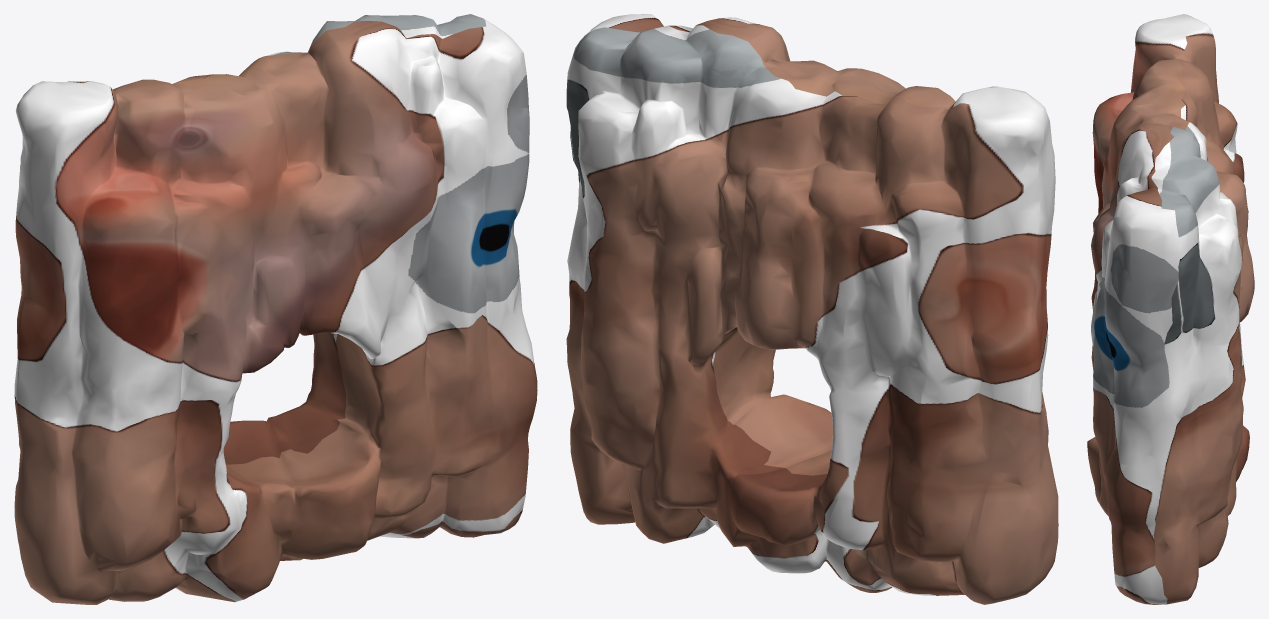
The model's file is caveWall2_LOD.fbx.
3 views of the same model, side by side, from view 1: azimuth 30°, elevation 25°; view 2: azimuth 150°, elevation 25°; view 3: azimuth 270°, elevation 25° (orthographic). The views are drawn at different scales.
Visible parts, largest first — view 1: wallMesh_hole1_LOD0; view 2: wallMesh_hole1_LOD0; view 3: wallMesh_hole1_LOD0.
Part boxes in pixels (x1,y1,x2,y2): wallMesh_hole1_LOD0: (14,14,537,604); wallMesh_hole1_LOD0: (566,14,1058,604); wallMesh_hole1_LOD0: (1087,14,1254,604).
Size of what is drawn, in the model's own units: 2173 by 2222 by 802.
